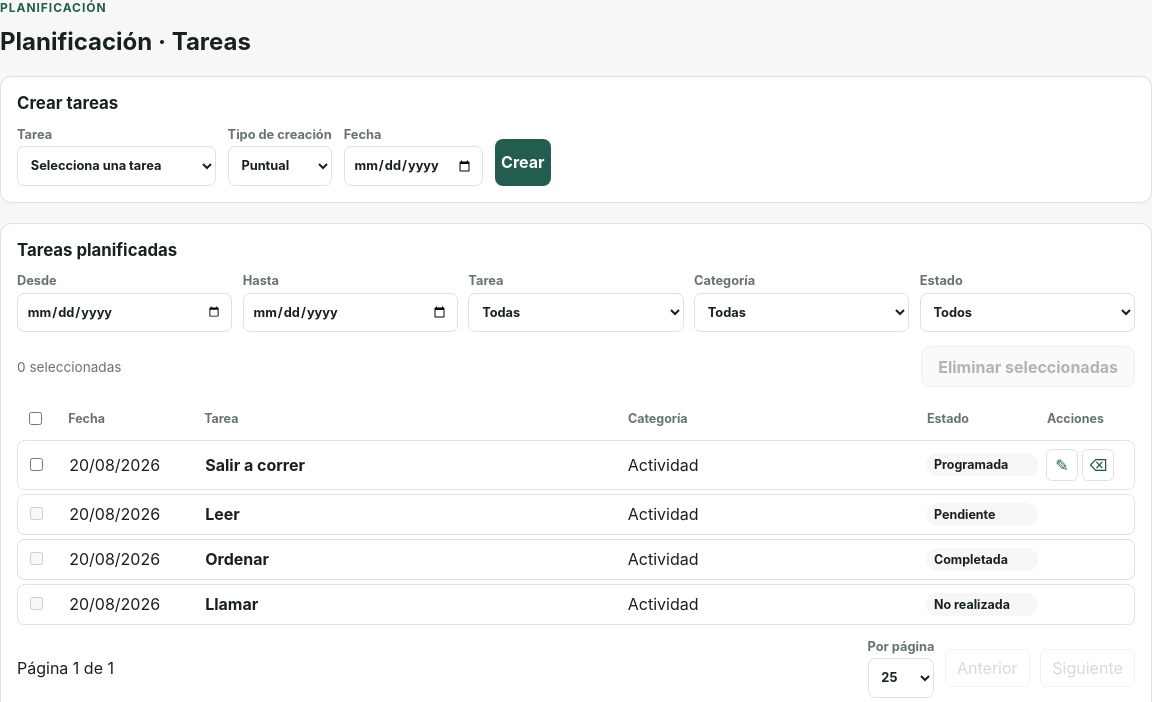
Test: PlanningTasksPage › clears selected lock versions after failed single deletion
Click the checkbox named "Seleccionar Salir a correr": x=36, y=464 top-left (30, 458), bottom-right (43, 471)
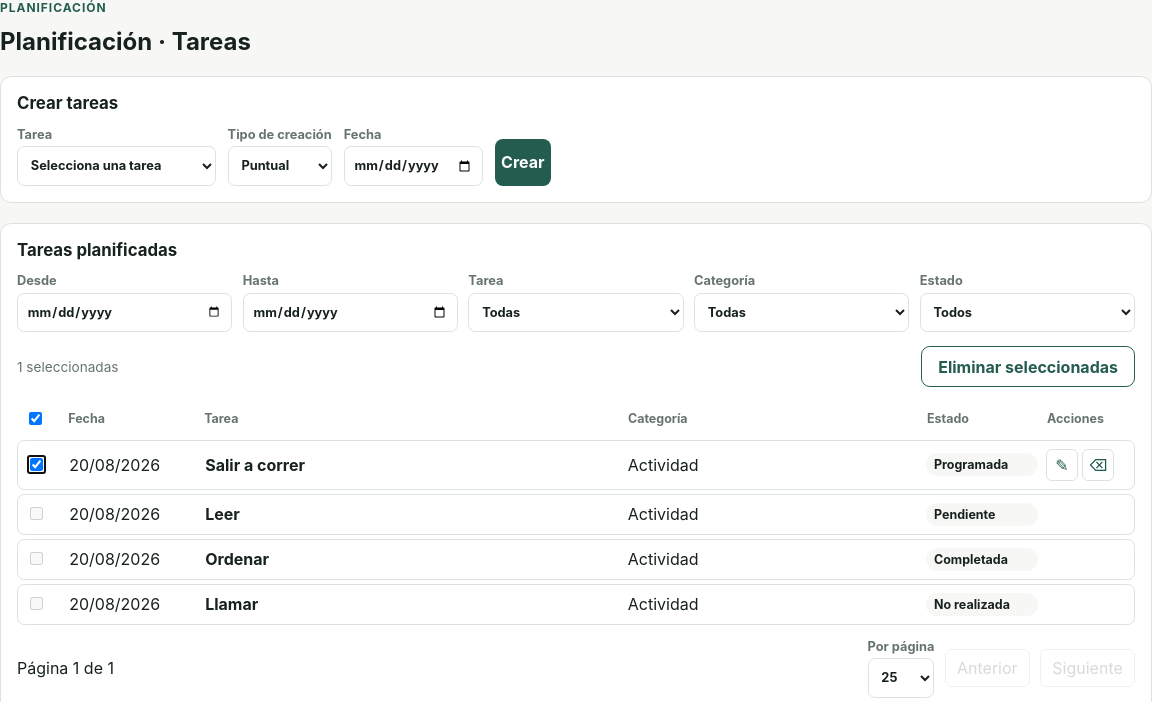
Click the button named "Eliminar Salir a correr": x=1098, y=465 top-left (1082, 449), bottom-right (1114, 481)
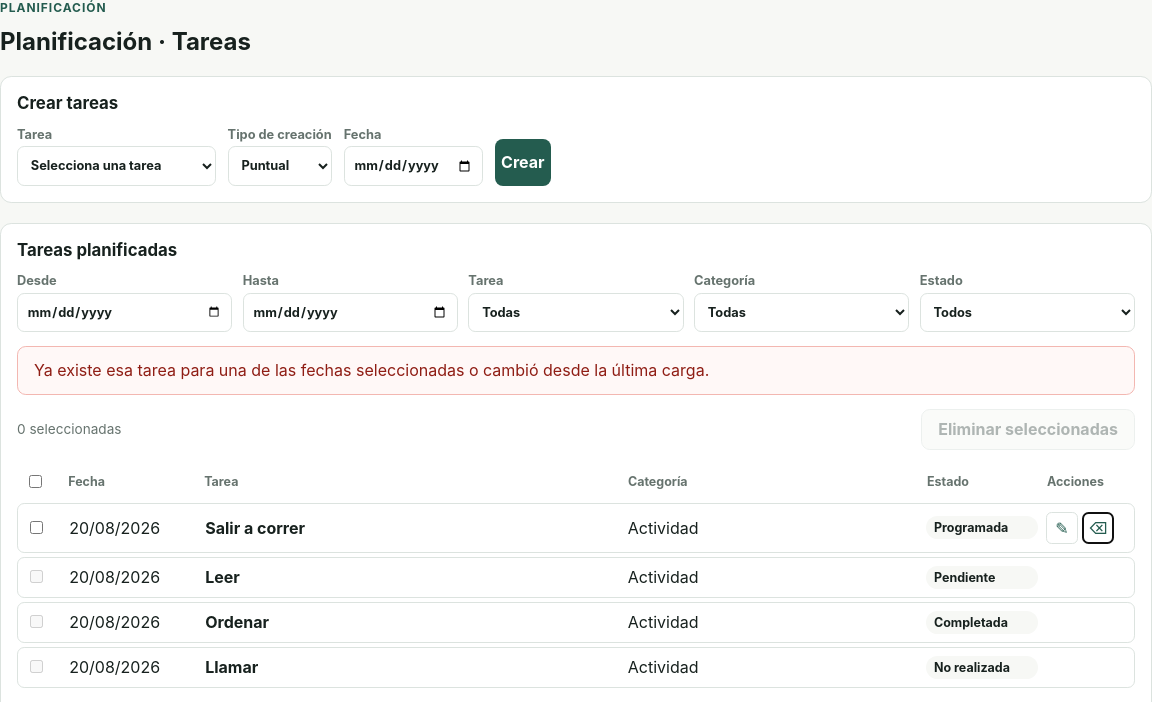
Check: the checkbox named "Seleccionar Salir a correr" is not checked, box top-left (30, 521), bottom-right (43, 534)
Check: the message shows "cambió desde la última carga", box top-left (34, 360), bottom-right (709, 380)
Check: the text "0 seleccionadas" is shown, box top-left (17, 421), bottom-right (122, 437)
